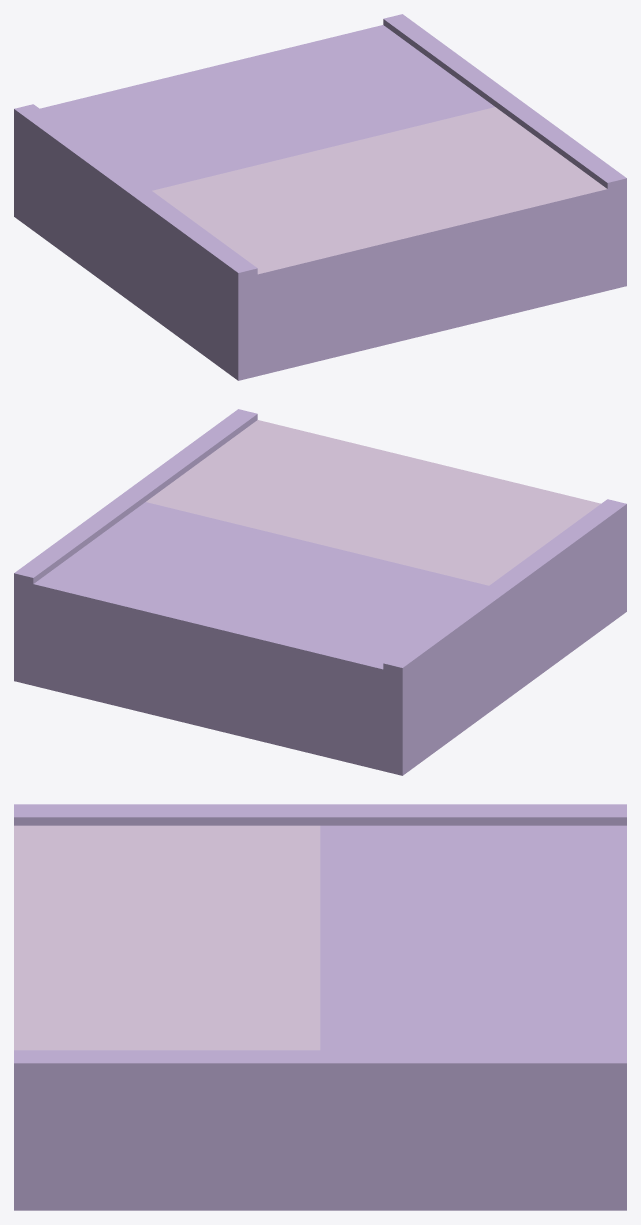
The model's file is road_01.fbx.
The picture shows the model from 3 angles, top to bottom: view 1: azimuth 30°, elevation 25°; view 2: azimuth 150°, elevation 25°; view 3: azimuth 270°, elevation 25°; orthographic projection. The views are drawn at different scales.
Parts seen in each view (by area): view 1: road_01; view 2: road_01; view 3: road_01.
Part boxes in pixels (left/top/right/bottom): road_01: left=14, top=14, right=626, bottom=380; road_01: left=14, top=409, right=626, bottom=775; road_01: left=14, top=804, right=626, bottom=1210.
Bounding box in the file's own units: 10.21 × 2.71 × 10.21.
